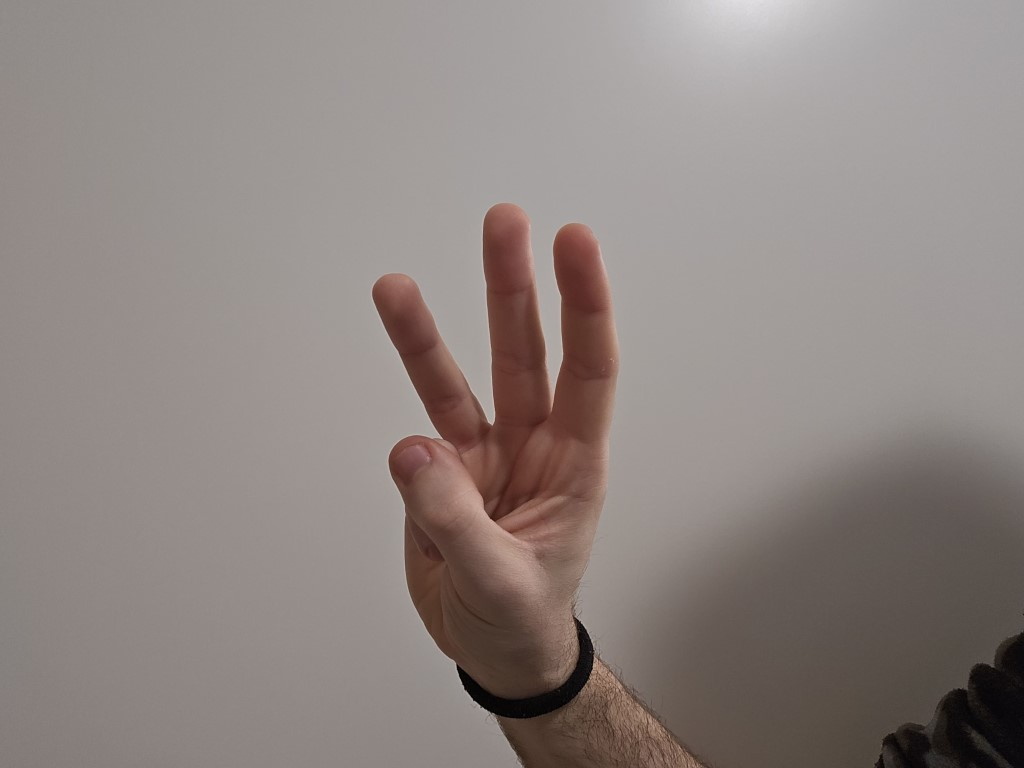w: (342, 180, 634, 656)
